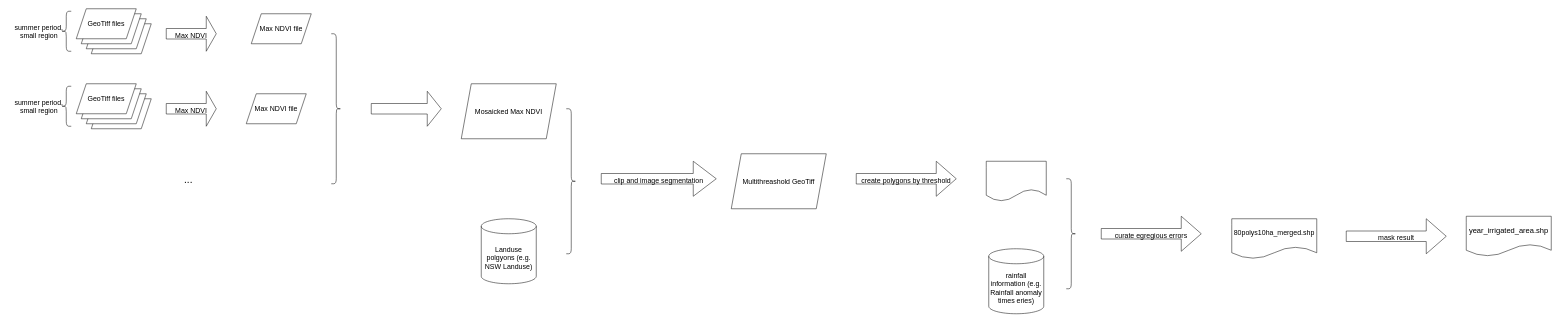
Image size: 1560x323. Some labels were removed from this diagram. The centre of each missing label's shape, as x and y in pixels:
"80polys10ha.shp" goes at (1016,181).
"create mosaic" goes at (406,108).
